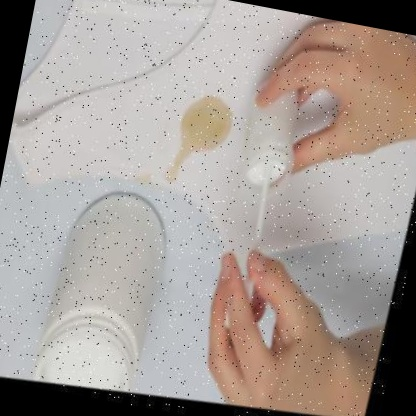coffee: (185, 104, 224, 146)
